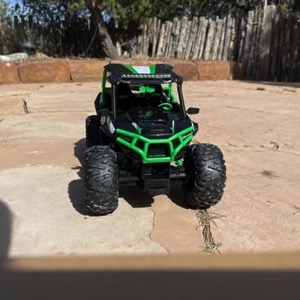polaris: (83, 63, 228, 217)
